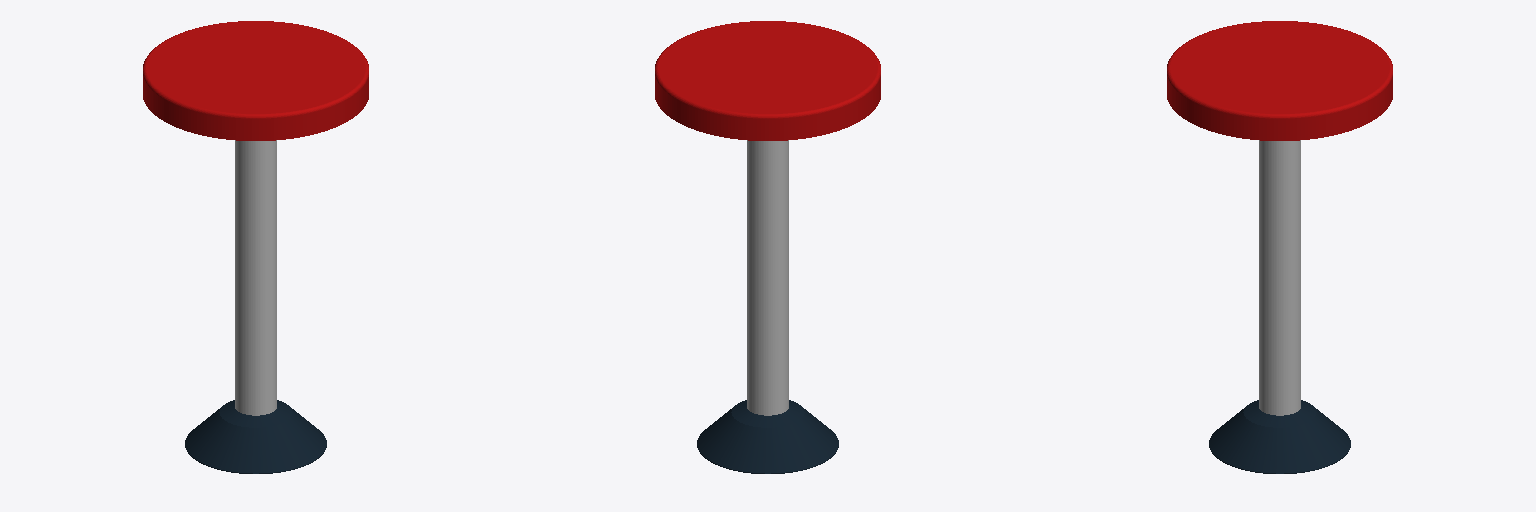
File: Assembly1.obj
3 views of the same model, side by side, from view 1: azimuth 30°, elevation 25°; view 2: azimuth 150°, elevation 25°; view 3: azimuth 270°, elevation 25° (orthographic).
Parts seen in each view (by area): view 1: Solid1:2, Solid1:1, Solid1; view 2: Solid1:2, Solid1:1, Solid1; view 3: Solid1:2, Solid1:1, Solid1.
Part boxes in pixels (bbox=[...]): Solid1:2: bbox=[143, 21, 368, 140]; Solid1:1: bbox=[235, 140, 276, 415]; Solid1: bbox=[185, 400, 326, 473]; Solid1:2: bbox=[655, 21, 880, 140]; Solid1:1: bbox=[747, 140, 788, 415]; Solid1: bbox=[697, 400, 838, 473]; Solid1:2: bbox=[1167, 21, 1392, 140]; Solid1:1: bbox=[1259, 140, 1300, 415]; Solid1: bbox=[1209, 400, 1350, 473].
Bounding box in the file's own units: 16 × 29.31 × 16.